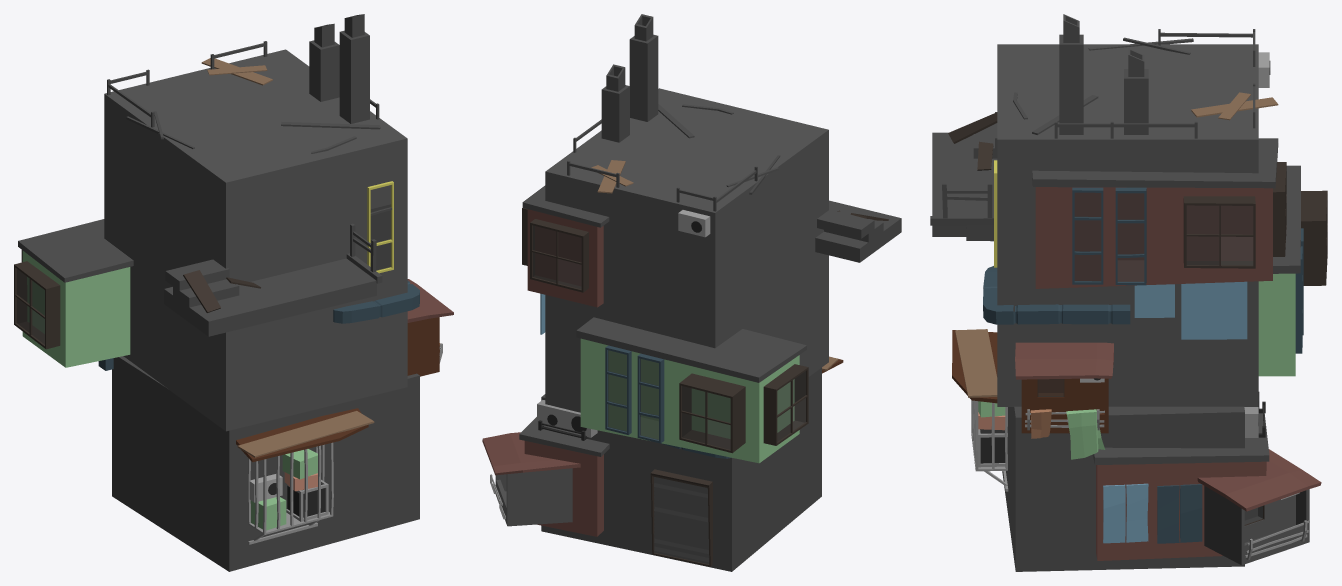
Rendered from Batiment3.fbx.
3 views of the same model, side by side, from view 1: azimuth 30°, elevation 25°; view 2: azimuth 150°, elevation 25°; view 3: azimuth 270°, elevation 25° (orthographic). The views are drawn at different scales.
Parts seen in each view (by area): view 1: Cube.010; view 2: Cube.010; view 3: Cube.010.
Part boxes in pixels (x1=…): Cube.010: x1=14, y1=14, x2=453, y2=571; Cube.010: x1=482, y1=14, x2=901, y2=571; Cube.010: x1=930, y1=14, x2=1327, y2=571.
Bounding box in the file's own units: 1432 × 2038 × 1374.
